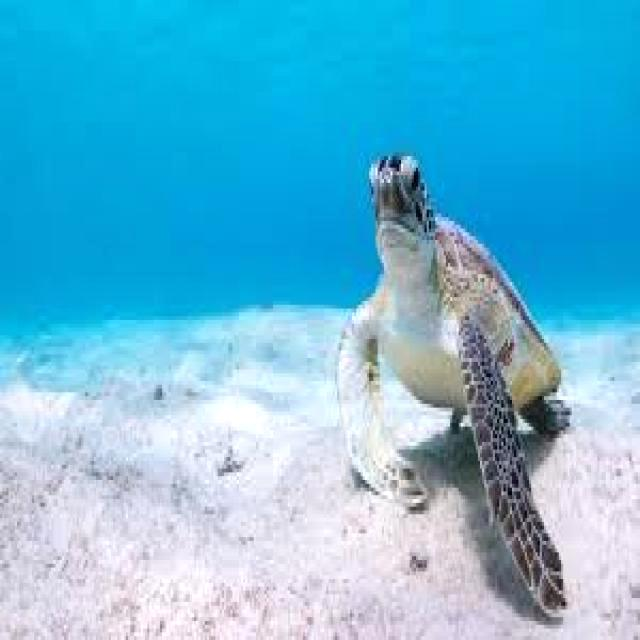Sea turtle: (327, 96, 604, 614)
